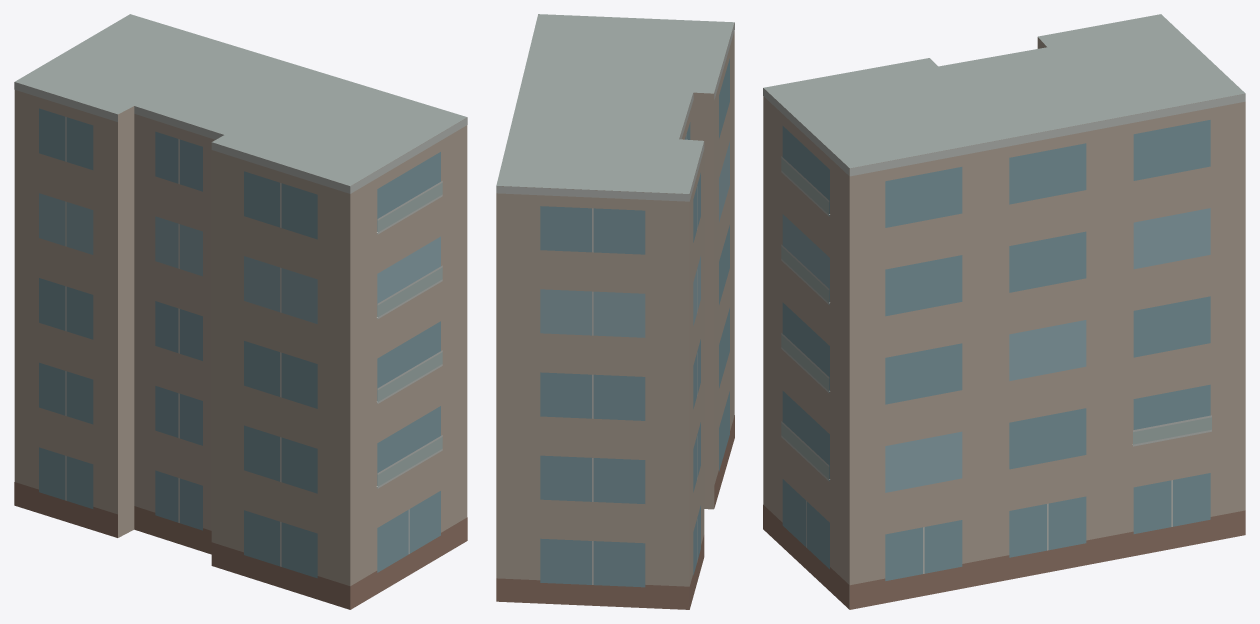
Rendered from survey-upis-32590559.glb.
The picture shows the model from 3 angles, left to right: view 1: azimuth 30°, elevation 25°; view 2: azimuth 150°, elevation 25°; view 3: azimuth 270°, elevation 25°; orthographic projection. The views are drawn at different scales.
Visible parts, largest first — view 1: survey-upis-32590559.tmp; view 2: survey-upis-32590559.tmp; view 3: survey-upis-32590559.tmp.
Boxes of the visible parts, x1,y1,x2,y2 form: survey-upis-32590559.tmp: [14, 14, 467, 609]; survey-upis-32590559.tmp: [496, 14, 734, 609]; survey-upis-32590559.tmp: [763, 14, 1245, 609].
Size of the model in its own units: 9.98 by 13.3 by 13.18.
